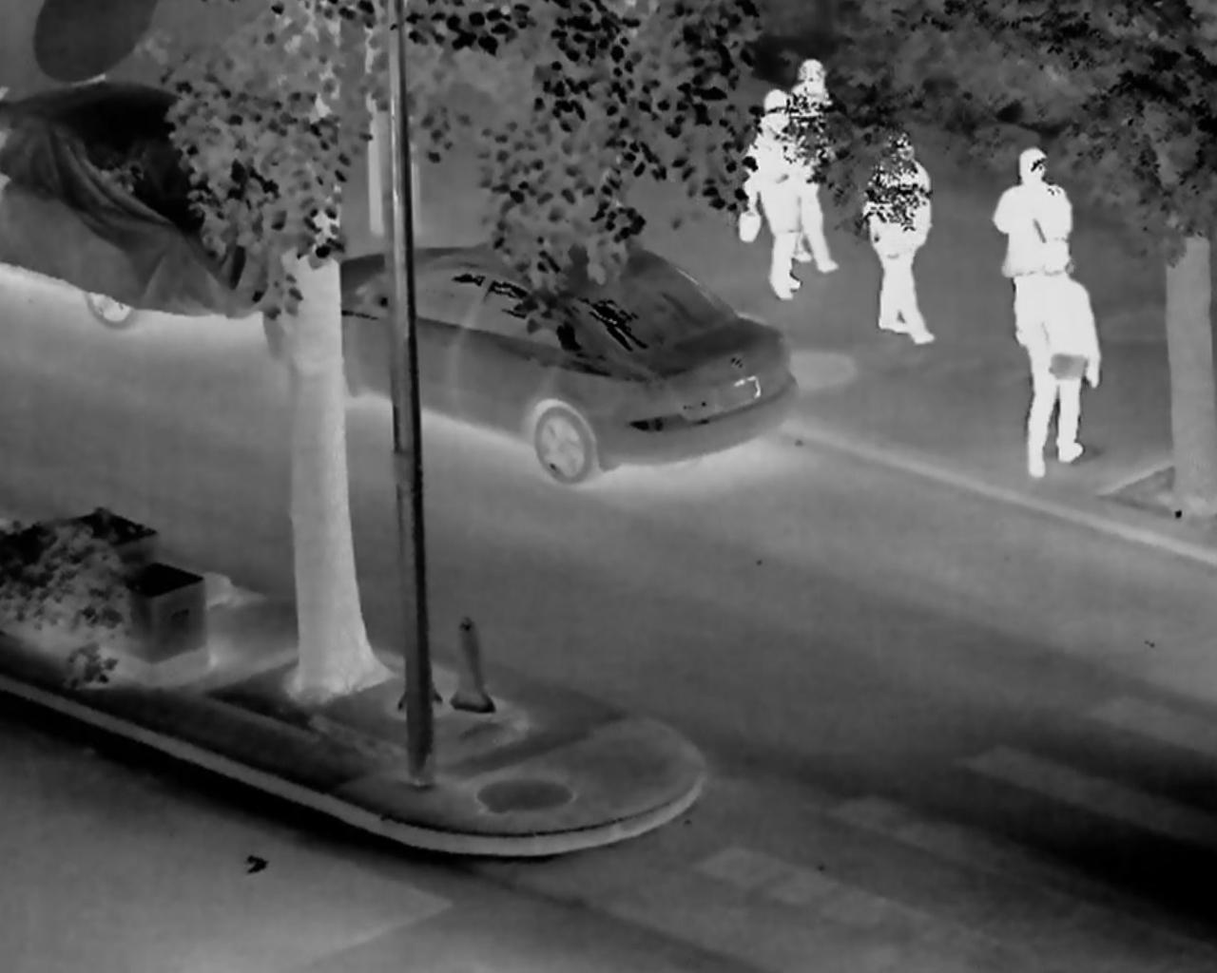person: (1016, 238, 1099, 481), (991, 145, 1074, 346), (868, 131, 936, 345), (740, 88, 804, 301), (782, 58, 843, 274)
